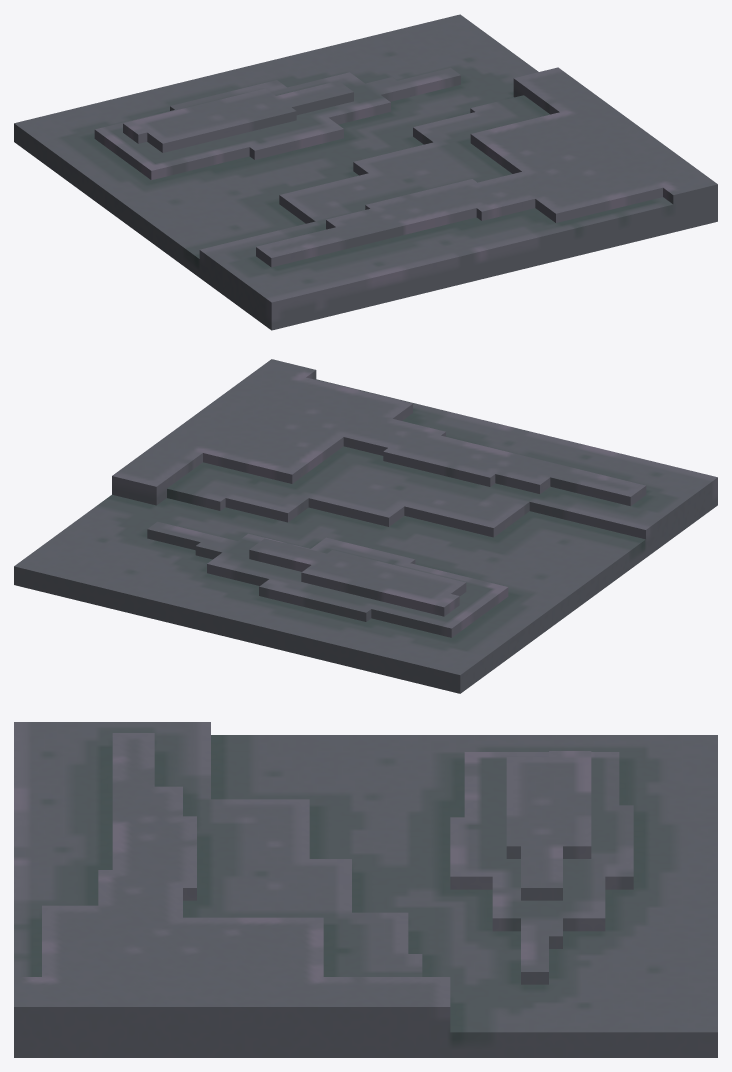
The model's file is GroundTile_7.fbx.
3 views of the same model, one above another, from view 1: azimuth 30°, elevation 25°; view 2: azimuth 150°, elevation 25°; view 3: azimuth 270°, elevation 25° (orthographic). The views are drawn at different scales.
Visible parts, largest first — view 1: GroundTile_7; view 2: GroundTile_7; view 3: GroundTile_7.
Part boxes in pixels (x1,y1,x2,y2): GroundTile_7: (14, 14, 717, 330); GroundTile_7: (14, 359, 717, 693); GroundTile_7: (14, 722, 717, 1057).
Size of the model in its own units: 250 by 20 by 250.
